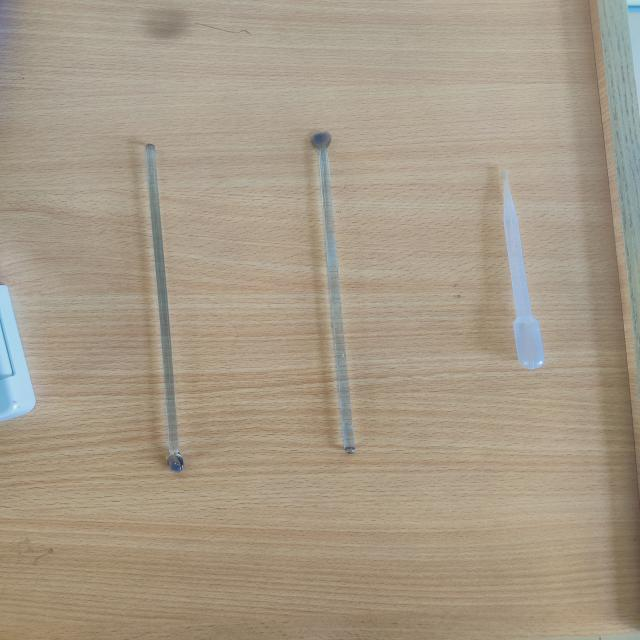Glass_Rod: (271, 108, 408, 473), (116, 122, 229, 482)
Pipette: (478, 159, 579, 391)
